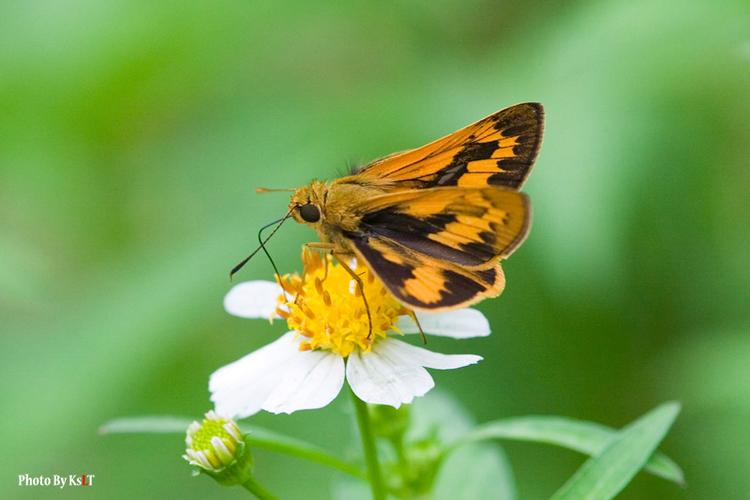Hesperiidae: (230, 101, 551, 318)
